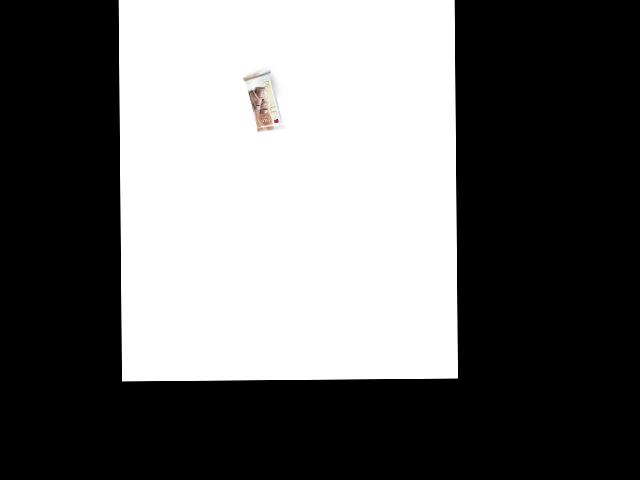chocolate: (238, 74, 286, 132)
